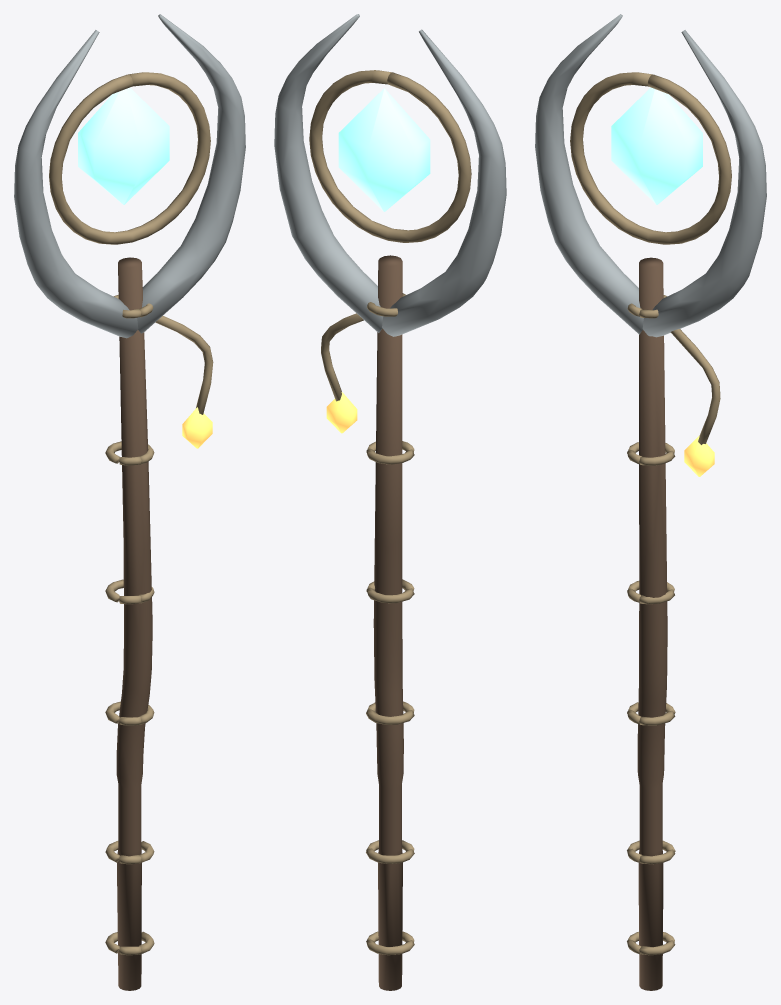
File: staff-grip053.glb
3 views of the same model, side by side, from view 1: azimuth 30°, elevation 25°; view 2: azimuth 150°, elevation 25°; view 3: azimuth 330°, elevation 25° (orthographic).
Parts seen in each view (by area): view 1: Weapon__silver, Weapon__leather, Weapon__gold, Weapon__soul, Weapon__ember; view 2: Weapon__silver, Weapon__leather, Weapon__gold, Weapon__soul, Weapon__ember; view 3: Weapon__silver, Weapon__leather, Weapon__gold, Weapon__soul, Weapon__ember.
Boxes of the visible parts, left/top/right/bottom form: Weapon__silver: left=14, top=14, right=245, bottom=338; Weapon__leather: left=116, top=257, right=152, bottom=990; Weapon__gold: left=49, top=72, right=213, bottom=955; Weapon__soul: left=78, top=87, right=169, bottom=204; Weapon__ember: left=182, top=407, right=212, bottom=448; Weapon__silver: left=274, top=14, right=506, bottom=336; Weapon__leather: left=373, top=255, right=403, bottom=990; Weapon__gold: left=309, top=70, right=471, bottom=955; Weapon__soul: left=338, top=88, right=430, bottom=211; Weapon__ember: left=326, top=392, right=357, bottom=433; Weapon__silver: left=535, top=14, right=766, bottom=337; Weapon__leather: left=637, top=257, right=667, bottom=990; Weapon__gold: left=570, top=72, right=731, bottom=955; Weapon__soul: left=611, top=87, right=702, bottom=204; Weapon__ember: left=684, top=435, right=714, bottom=476.
Size of the model in its own units: 0.551 by 2.22 by 0.156.
